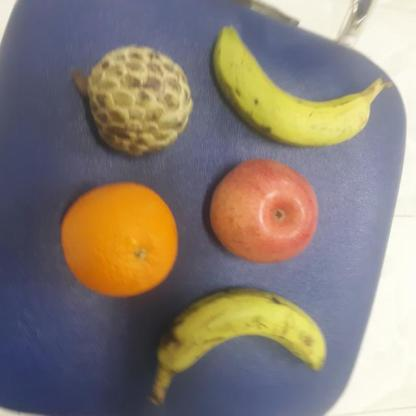annona: (83, 43, 194, 156)
apple: (206, 155, 319, 265)
banana: (210, 27, 384, 150), (154, 283, 332, 381)
orange: (59, 181, 181, 298)
